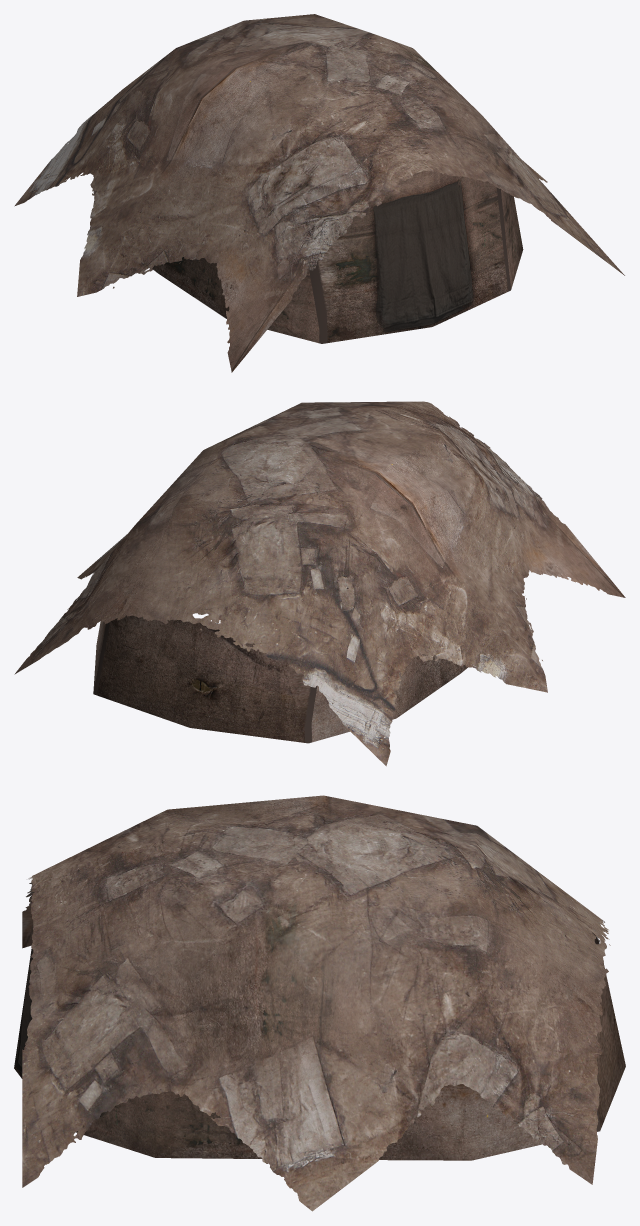
Rendered from tent_small_1.fbx.
3 views of the same model, one above another, from view 1: azimuth 30°, elevation 25°; view 2: azimuth 150°, elevation 25°; view 3: azimuth 270°, elevation 25° (orthographic). The views are drawn at different scales.
Visible parts, largest first — view 1: tent_small_1; view 2: tent_small_1; view 3: tent_small_1.
Part boxes in pixels (left/top/right/bottom): tent_small_1: left=14, top=14, right=624, bottom=372; tent_small_1: left=14, top=401, right=625, bottom=766; tent_small_1: left=14, top=795, right=625, bottom=1211.
Bounding box in the file's own units: 112 × 45.18 × 101.
Materials: 1 (1 with a texture image).
